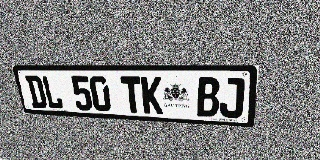0: (89, 76, 111, 112)
5: (71, 76, 94, 111)
B: (197, 77, 220, 117)
D: (25, 75, 48, 109)
J: (219, 77, 245, 118)
K: (141, 77, 163, 114)
L: (41, 75, 64, 109)
T: (120, 76, 143, 113)
